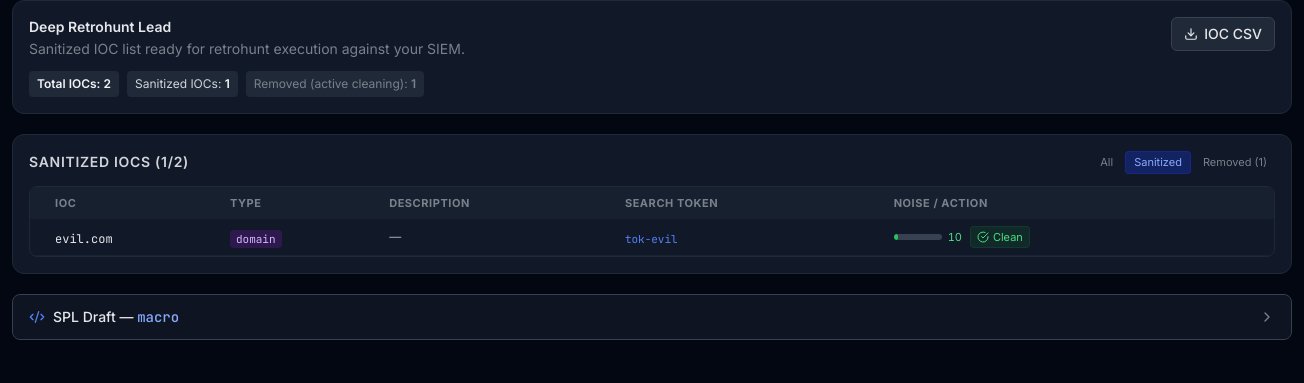
Test: RetrohuntPanel — three-way filter + verdict column › Removed shows only removed IOCs
The image size is (1304, 383).
Click the button "Removed (1)". click: [1235, 162]
box: [1195,151,1275,174]
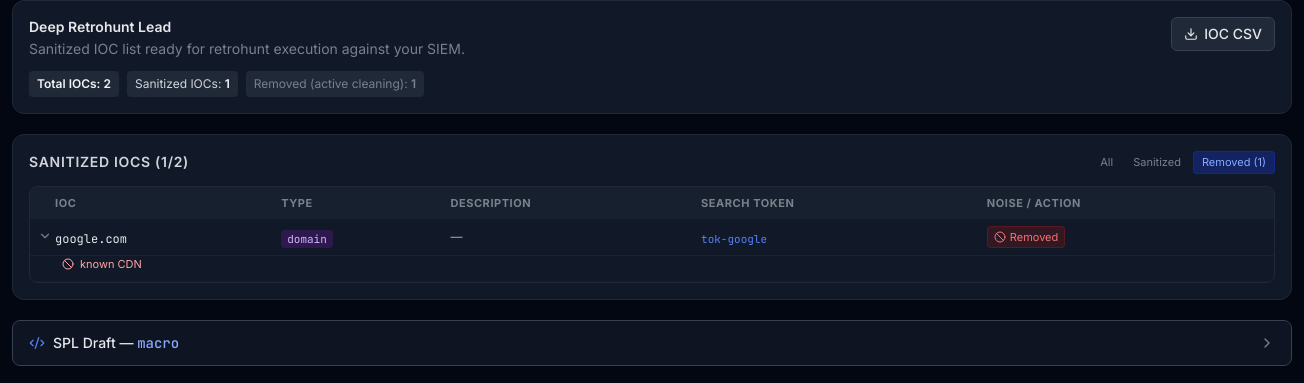
Expected: the text "evil.com" is gone
Expected: the text "google.com" is shown, [55,231,127,247]
